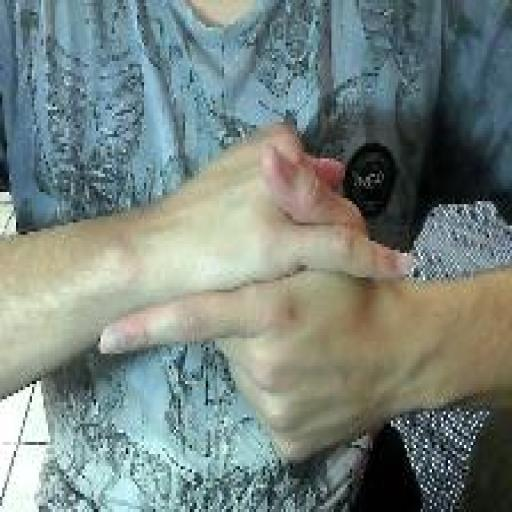U -hare-: (95, 117, 419, 474)
